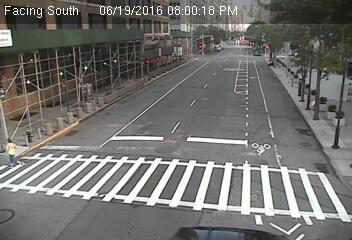neg: (306, 87, 324, 111), (296, 76, 309, 92), (324, 102, 335, 117)
pos: (1, 135, 28, 173)
